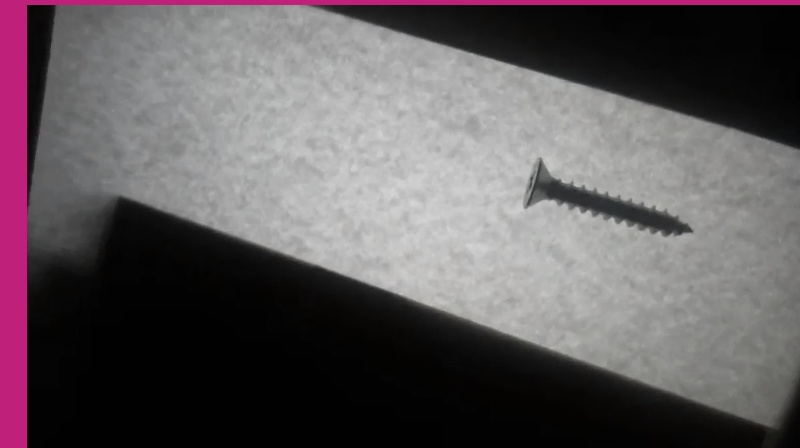S001: (517, 151, 699, 238)
